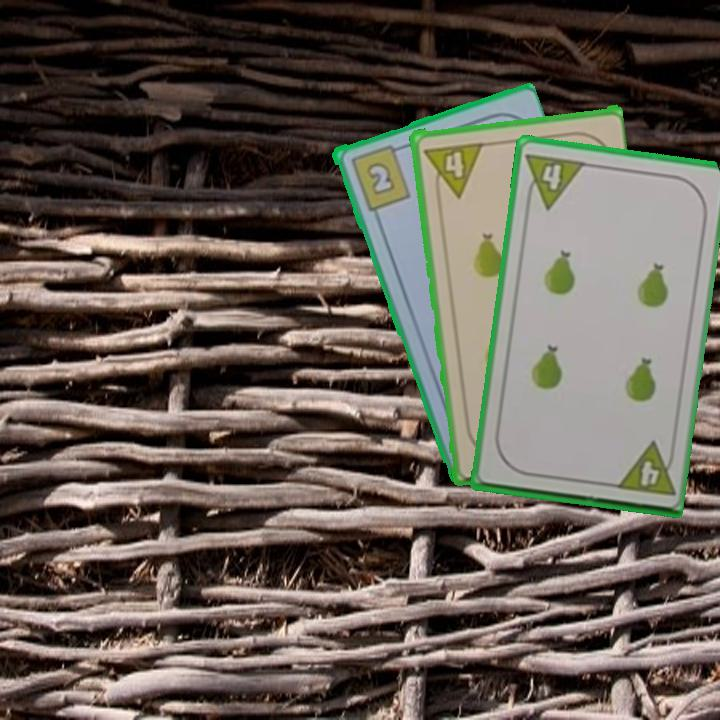2b: (346, 141, 413, 213)
4p: (521, 149, 588, 212), (419, 138, 484, 201), (611, 439, 678, 499)
